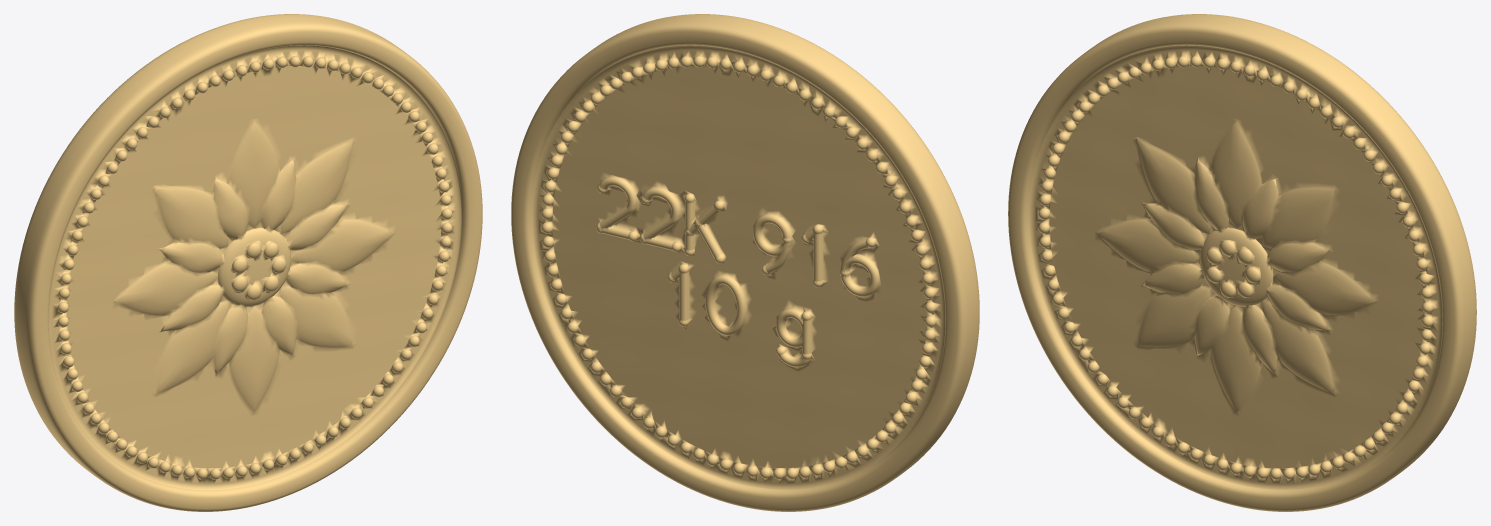
File: coin_lotus_10g.glb
3 renders of one model, left to right at view 1: azimuth 30°, elevation 25°; view 2: azimuth 150°, elevation 25°; view 3: azimuth 330°, elevation 25°, orthographic.
Parts seen in each view (by area): view 1: gold; view 2: gold; view 3: gold.
Boxes of the visible parts, x1=… form: gold: x1=14, y1=14, x2=482, y2=511; gold: x1=511, y1=14, x2=979, y2=511; gold: x1=1008, y1=14, x2=1476, y2=511.
Bounding box in the file's own units: 0.024 × 0.024 × 0.00206.
